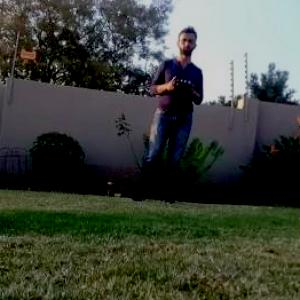follow: (125, 16, 206, 207)
